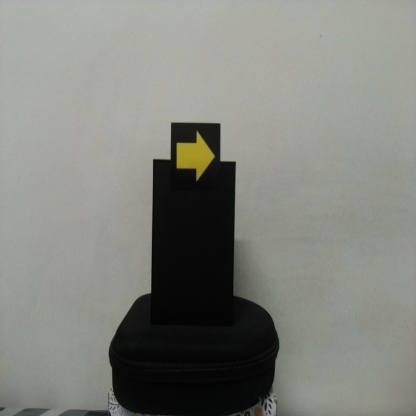id_3: (171, 122, 220, 190)
